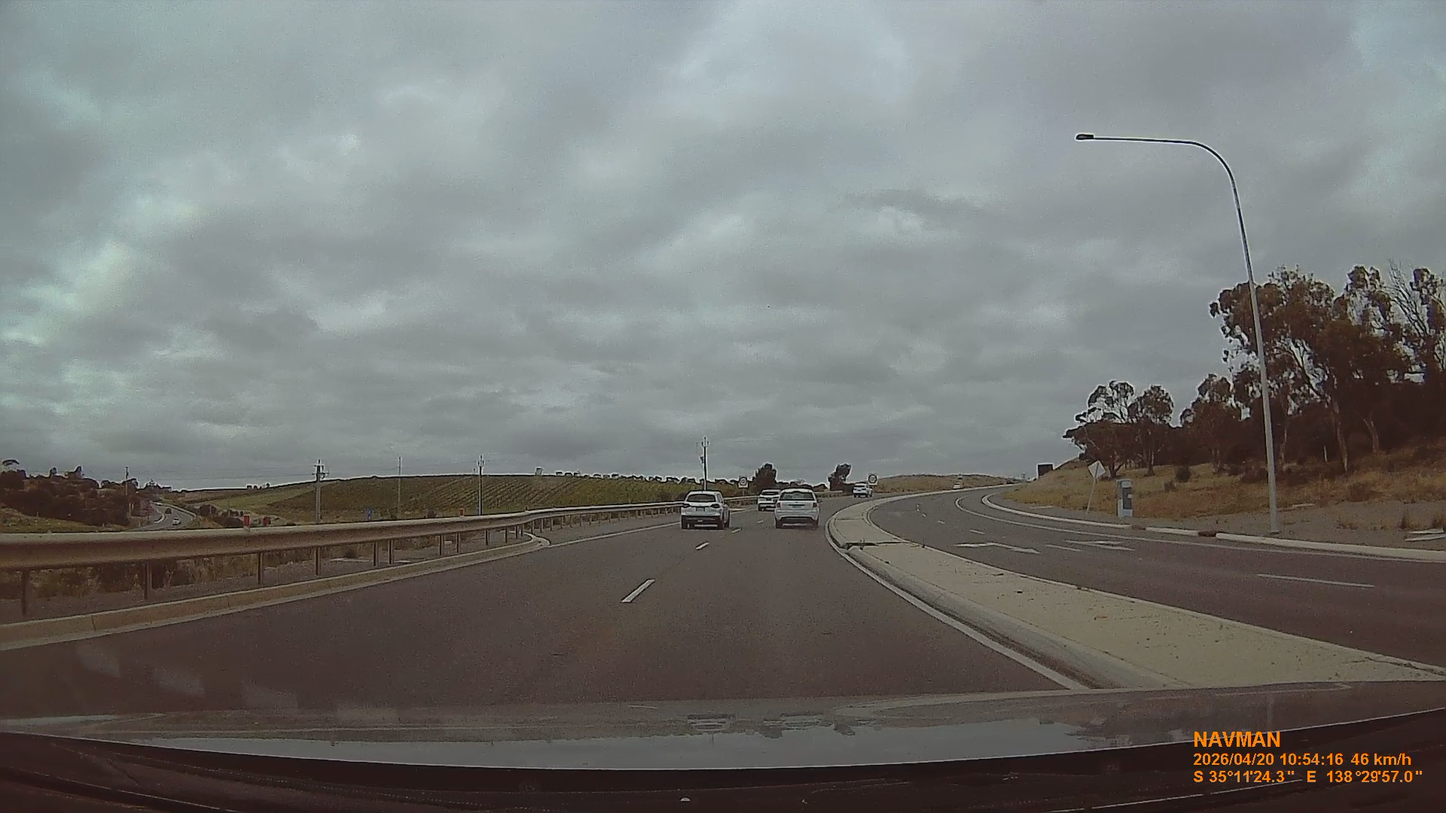road barriers: (0, 502, 677, 617)
